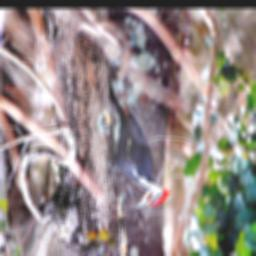Woodpecker: (108, 78, 176, 210)
